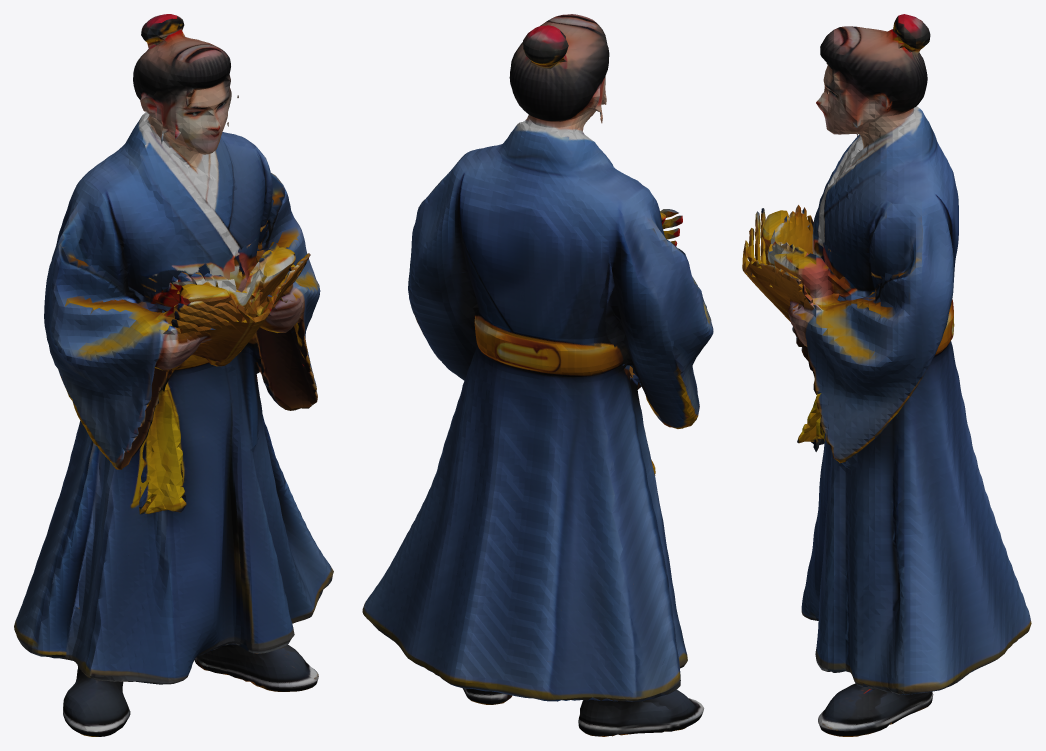
File: body.glb
3 views of the same model, side by side, from view 1: azimuth 30°, elevation 25°; view 2: azimuth 150°, elevation 25°; view 3: azimuth 270°, elevation 25° (orthographic). The views are drawn at different scales.
Visible parts, largest first — view 1: geometry_0; view 2: geometry_0; view 3: geometry_0.
Part boxes in pixels (x1=…): geometry_0: x1=14, y1=14, x2=333, y2=736; geometry_0: x1=362, y1=14, x2=713, y2=736; geometry_0: x1=742, y1=14, x2=1031, y2=736.
Size of the model in its own units: 0.9246 by 1.96 by 0.7712.
Materials: 1 (1 with a texture image).
